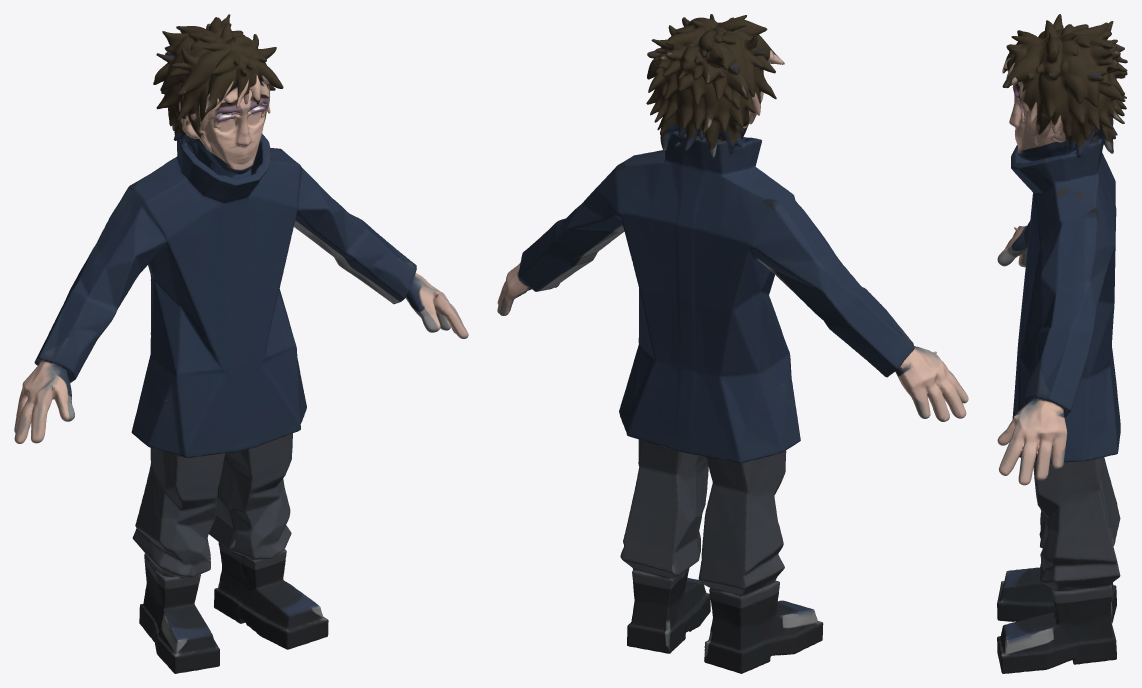
Rendered from Daniel.glb.
3 renders of one model, left to right at view 1: azimuth 30°, elevation 25°; view 2: azimuth 150°, elevation 25°; view 3: azimuth 270°, elevation 25°, orthographic. The views are drawn at different scales.
Visible parts, largest first — view 1: tripo_node_2d5c191e-b07d-408f-8724-428992806dad; view 2: tripo_node_2d5c191e-b07d-408f-8724-428992806dad; view 3: tripo_node_2d5c191e-b07d-408f-8724-428992806dad.
Part boxes in pixels (<box>): tripo_node_2d5c191e-b07d-408f-8724-428992806dad: <box>14,14,468,673</box>; tripo_node_2d5c191e-b07d-408f-8724-428992806dad: <box>497,14,968,673</box>; tripo_node_2d5c191e-b07d-408f-8724-428992806dad: <box>997,14,1127,673</box>.
Size of the model in its own units: 0.7786 by 1 by 0.1942.
1 material, 1 textured.
